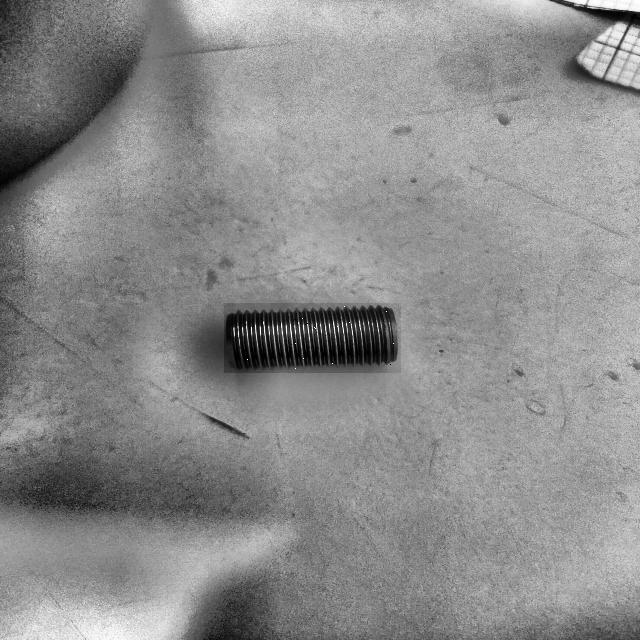Normal: (224, 303, 401, 373)
